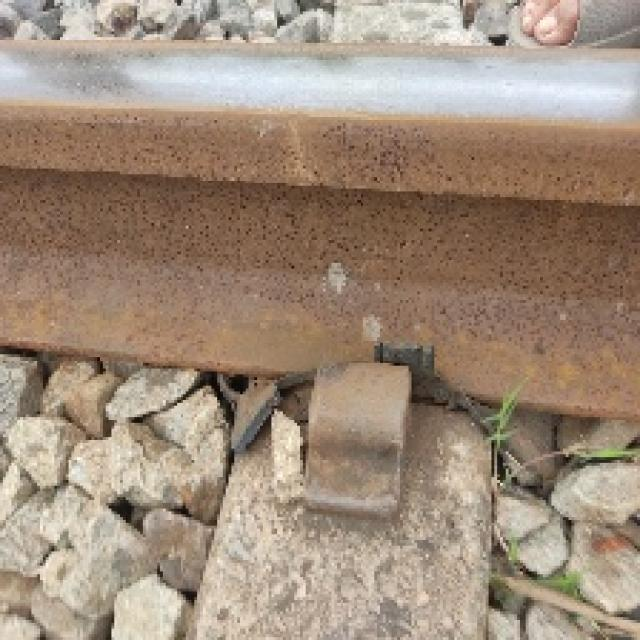Missing Fastener: (256, 324, 431, 524)
